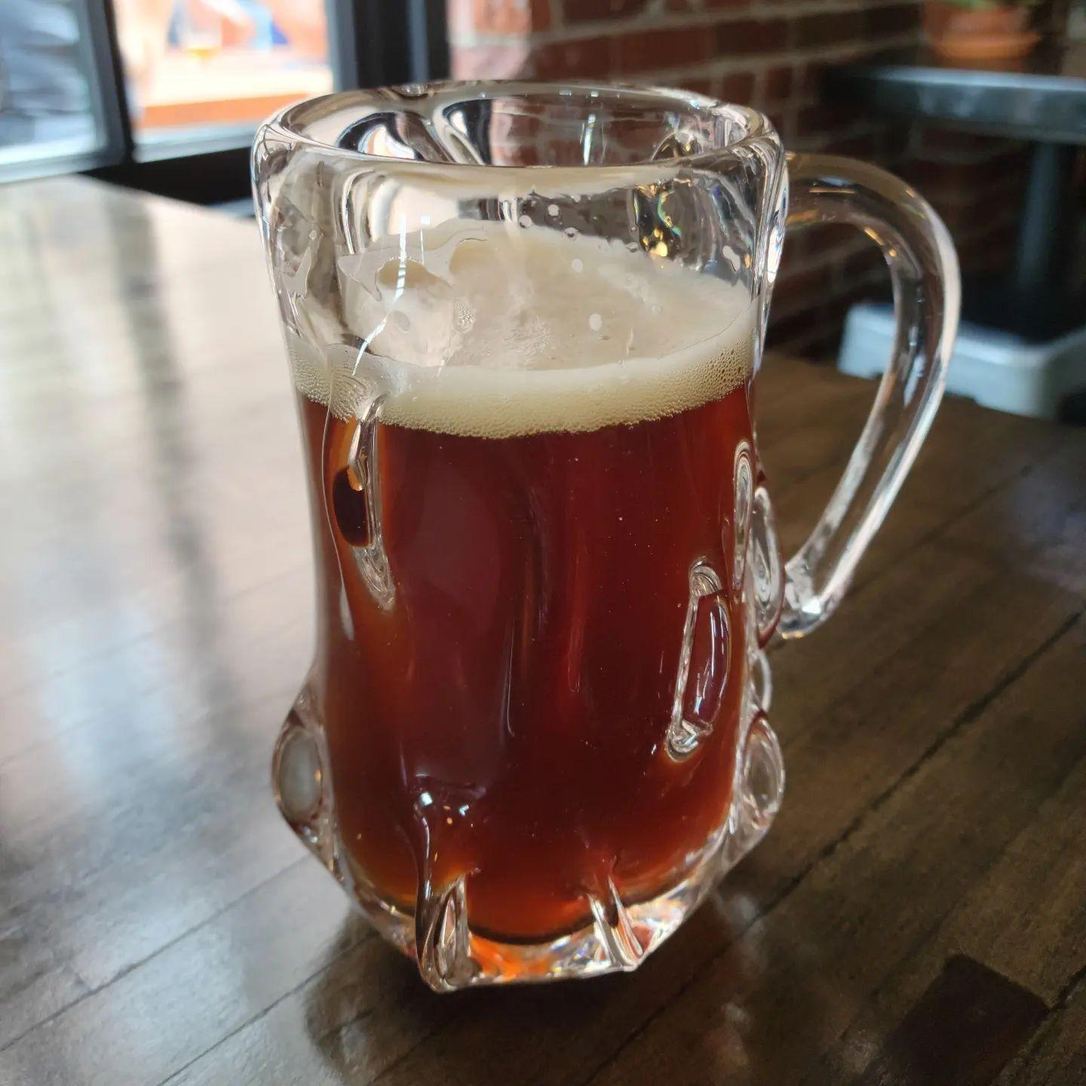glass-mug: (241, 67, 1003, 1015)
